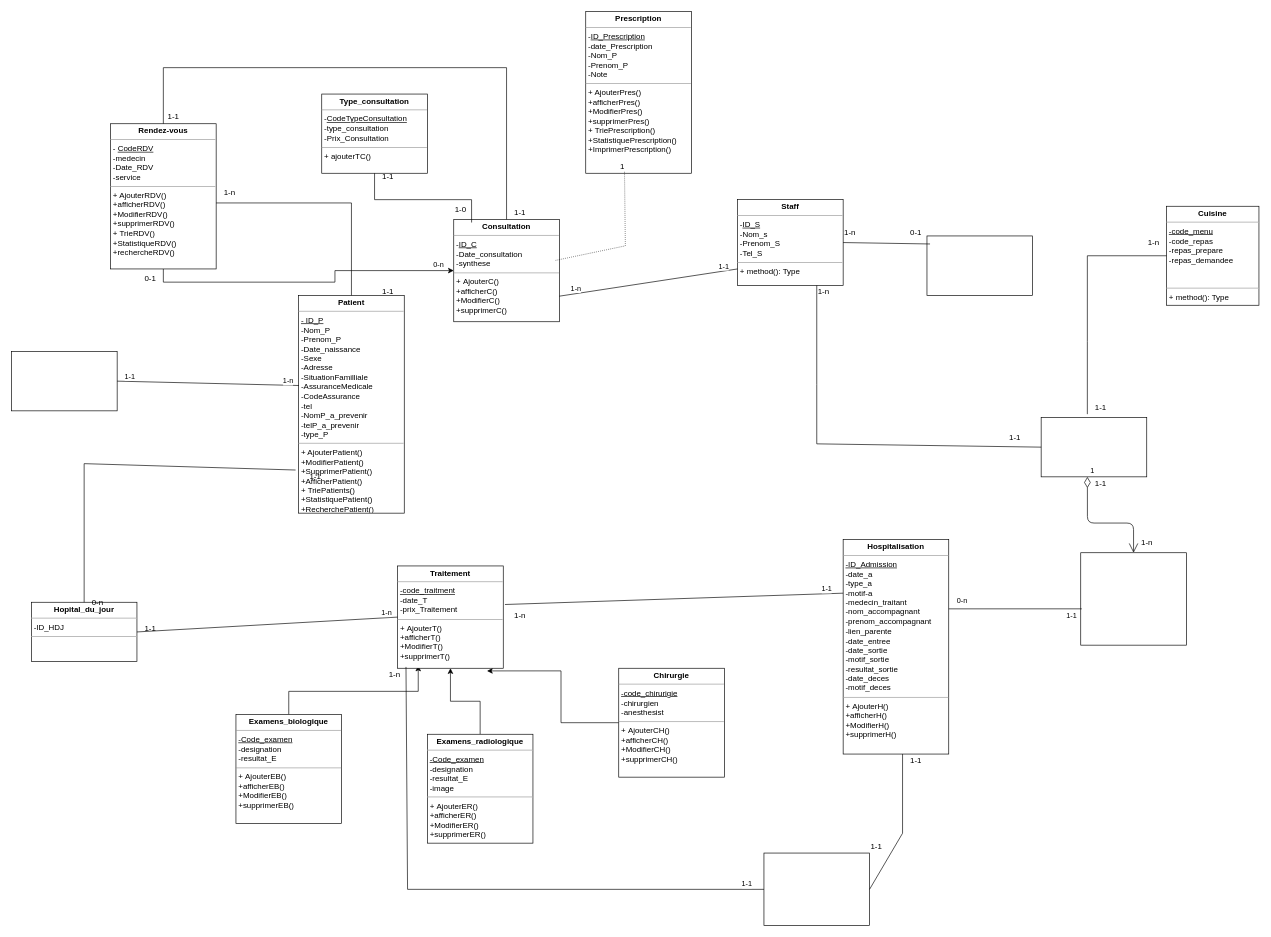
Image size: 1271x937. Some labels were removed from this diagram. Here are the shapes that lost their labels. From the top down, the centre of each, then its label:
pixel 979 265: Specialite -Code_Specialite -Specialite + method(): Type
pixel 64 381: Provenance - ID_Provenance -provenance
pixel 1093 447: Service -CodeService -Nom_service + method(): Type
pixel 1133 598: Chambre - ID_chambre -etage -capacite -prix + method(): Type
pixel 816 889: Facture -Code_facture -date_facture -total + method(): Type
